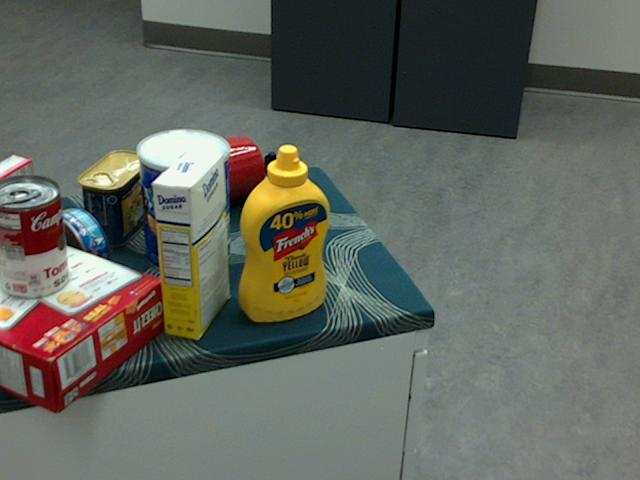cracker_box: (0, 221, 164, 412)
gelatin_box: (0, 154, 36, 235)
large_marker: (264, 151, 280, 244)
master_chef_can: (134, 128, 228, 276)
mug: (176, 135, 263, 211)
mustard_bottle: (238, 143, 330, 321)
potted_meat_can: (76, 148, 150, 247)
sugar_box: (150, 148, 230, 339)
tomato_soup_can: (0, 175, 68, 299)
tuna_fish_can: (35, 207, 108, 288)
